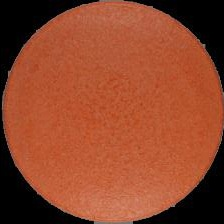66267-070: (0, 0, 224, 224)
